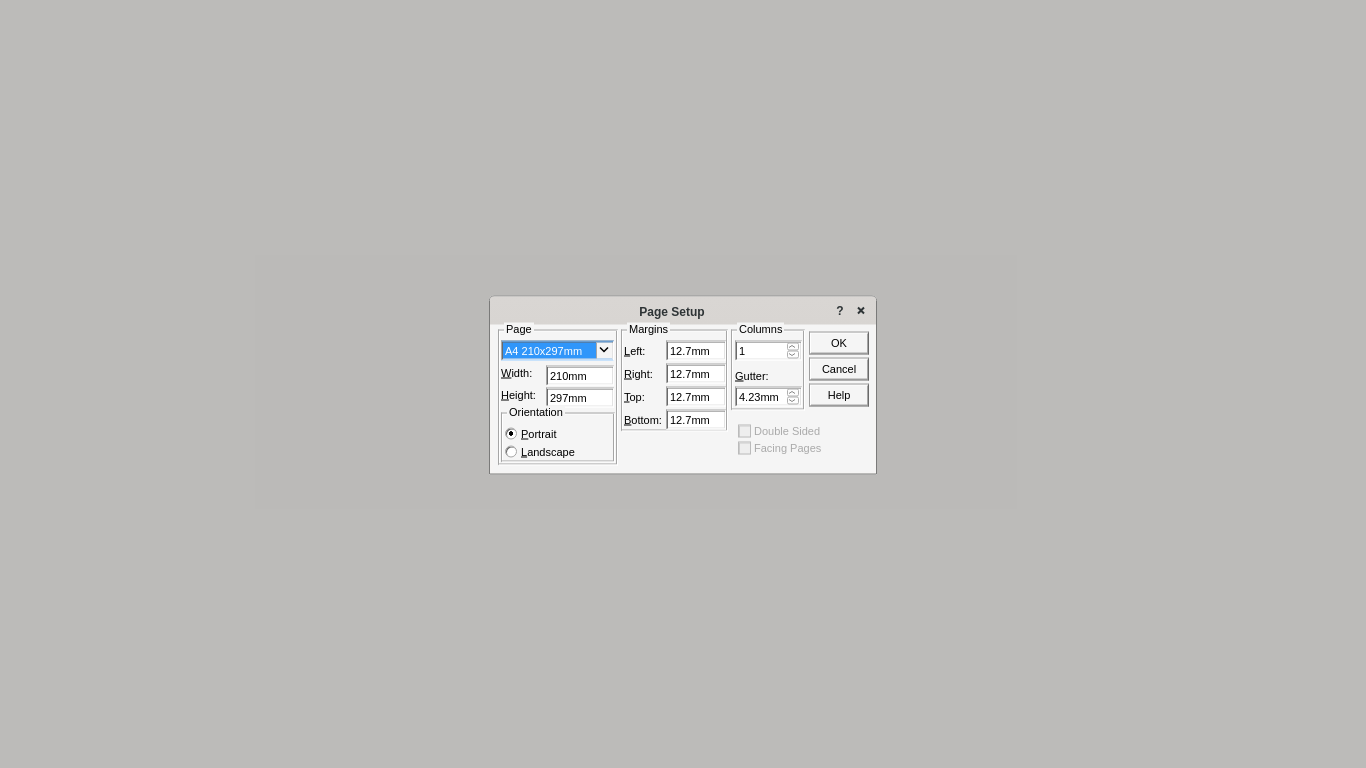
fills a5 dimensions
Step 1. Select "A5 148x210mm" in the dropdown named "Page size" → (558, 350), box [501,340,614,360]
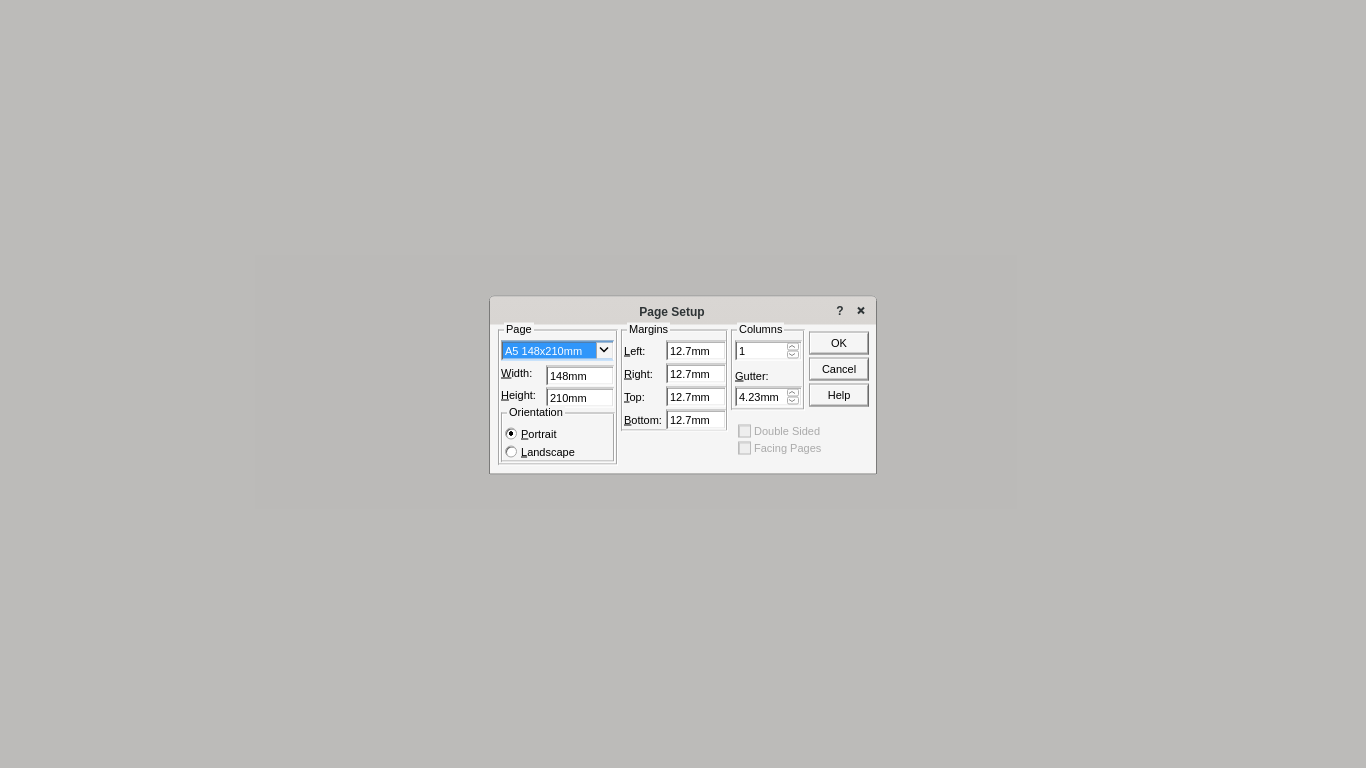
Now the field labelled "Width" holds "148mm", box [546,365,614,385]
Now the field labelled "Height" holds "210mm", box [546,387,614,407]
